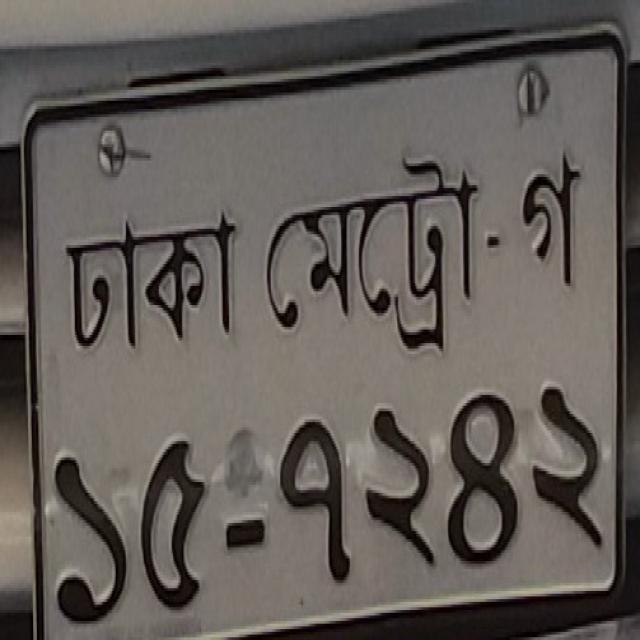numberplate: (17, 20, 632, 637)
